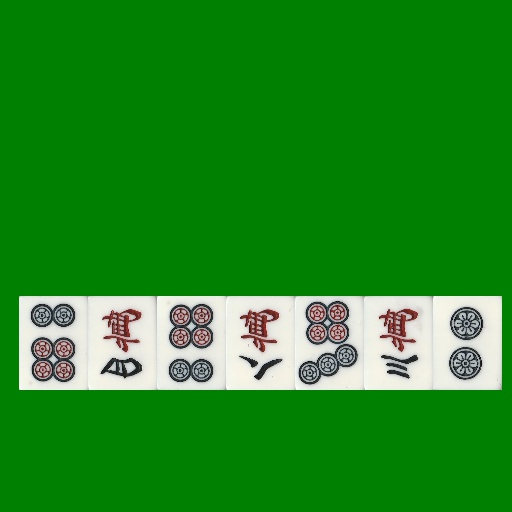2p: (433, 296, 502, 390)
3m: (364, 296, 433, 390)
4m: (88, 296, 157, 390)
6p: (19, 296, 88, 390), (157, 296, 226, 390)
7p: (295, 296, 364, 390)
8m: (226, 296, 295, 390)
